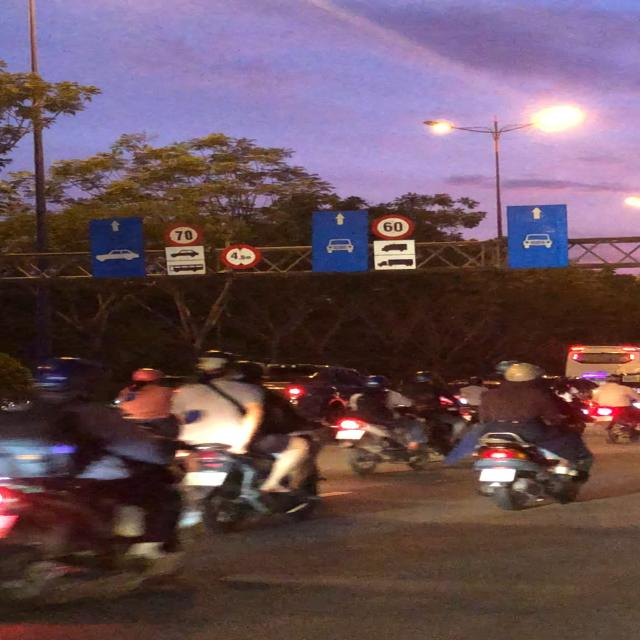Bien bao han che chieu cao: (217, 242, 265, 271)
Bien bao toc do toi da cho phep: (364, 213, 416, 240), (160, 221, 207, 247)
